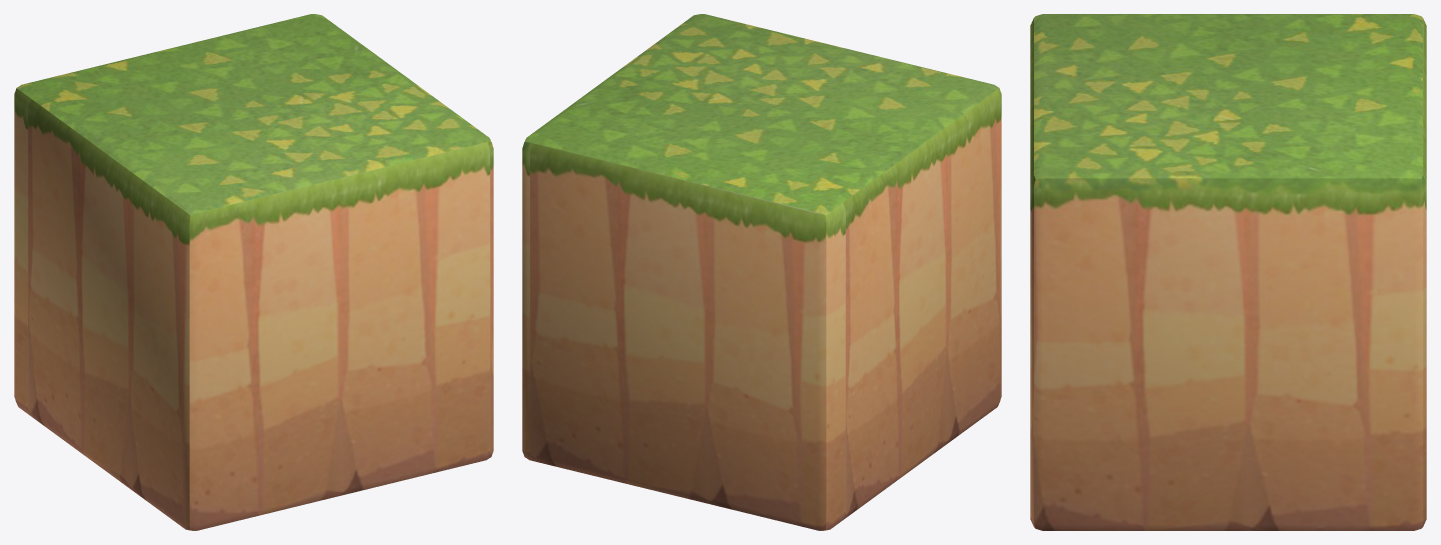
The model's file is acnh block.fbx.
3 renders of one model, left to right at view 1: azimuth 30°, elevation 25°; view 2: azimuth 150°, elevation 25°; view 3: azimuth 270°, elevation 25°, orthographic. The views are drawn at different scales.
Visible parts, largest first — view 1: Cube; view 2: Cube; view 3: Cube.
Boxes of the visible parts, left/top/right/bottom form: Cube: left=14, top=14, right=493, bottom=530; Cube: left=522, top=14, right=1001, bottom=530; Cube: left=1030, top=14, right=1426, bottom=530.
Bounding box in the file's own units: 202 × 202 × 202.
